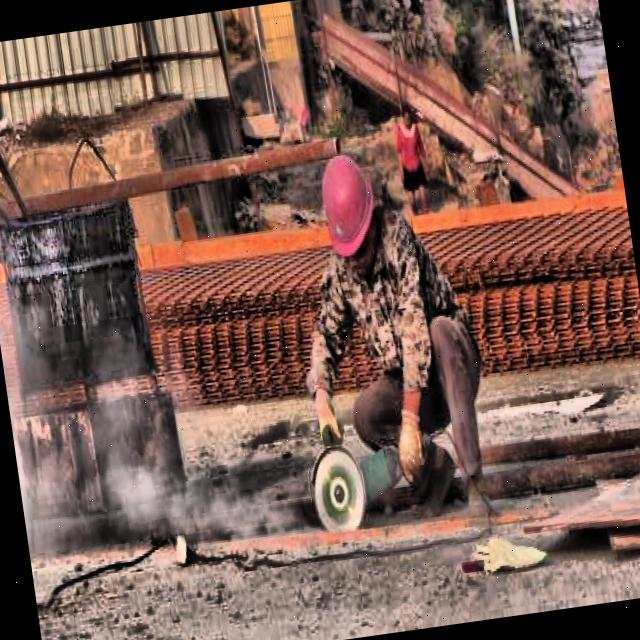helmet: (309, 145, 388, 272)
